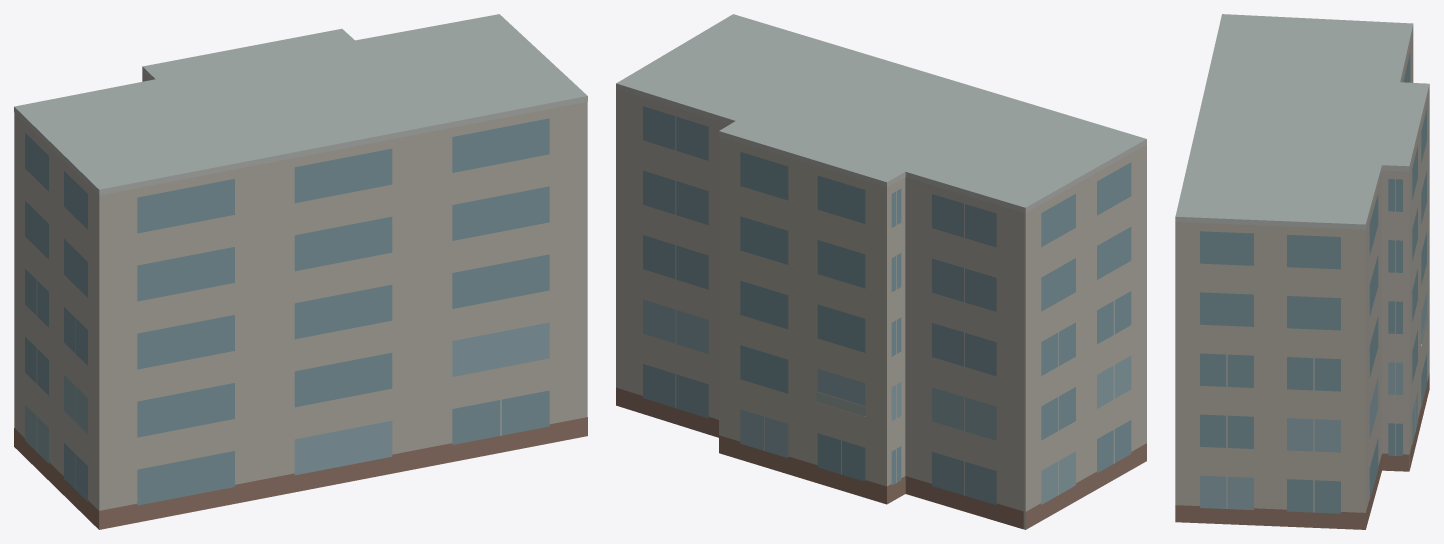
File: survey-upis-32652447.glb
3 renders of one model, left to right at view 1: azimuth 30°, elevation 25°; view 2: azimuth 150°, elevation 25°; view 3: azimuth 270°, elevation 25°, orthographic. The views are drawn at different scales.
Visible parts, largest first — view 1: survey-upis-32652447.tmp; view 2: survey-upis-32652447.tmp; view 3: survey-upis-32652447.tmp.
Boxes of the visible parts, x1,y1,x2,y2 form: survey-upis-32652447.tmp: (14, 14, 587, 529); survey-upis-32652447.tmp: (616, 14, 1146, 529); survey-upis-32652447.tmp: (1175, 14, 1429, 529).
Size of the model in its own units: 21.44 by 14.5 by 10.95.
